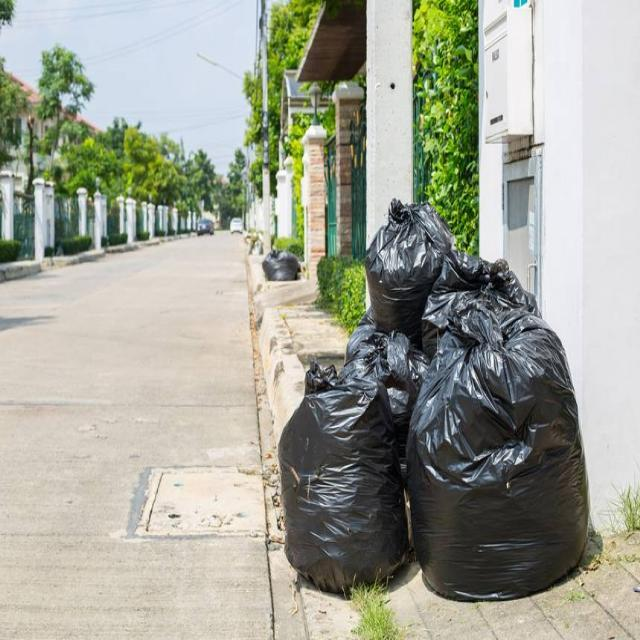garbage: (359, 194, 594, 603), (272, 360, 408, 606), (256, 246, 304, 290)
